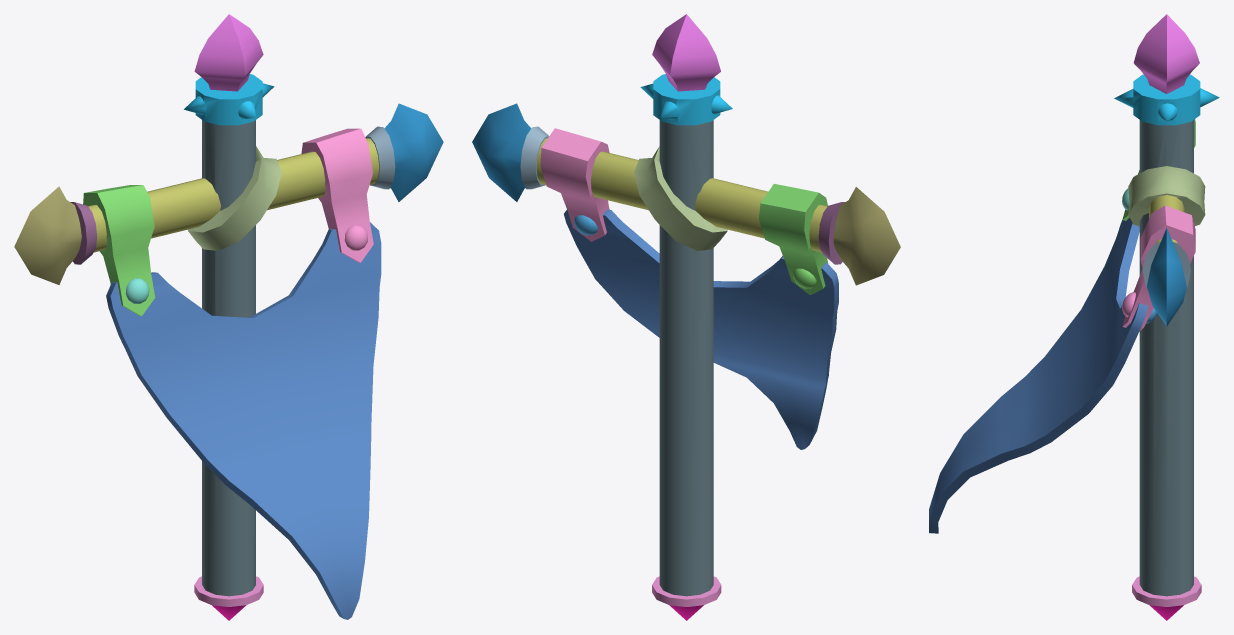
The picture shows the model from 3 angles, left to right: view 1: azimuth 30°, elevation 25°; view 2: azimuth 150°, elevation 25°; view 3: azimuth 270°, elevation 25°; orthographic projection.
Parts seen in each view (by area): view 1: split_parent_4, split_parent_8, pCylinder19_lambert1_0, split_parent_2, split_parent_6, pCone12_lambert1_0, pCylinder16_lambert1_0, pCone15_lambert1_0, pCone16_lambert1_0, pCylinder13_lambert1_0, pCylinder14_lambert1_0, pCylinder15_lambert1_0 (+1 smaller); view 2: split_parent_8, split_parent_4, pCylinder19_lambert1_0, split_parent_6, split_parent_2, pCone12_lambert1_0, pCylinder16_lambert1_0, pCone15_lambert1_0, pCone16_lambert1_0, pCylinder13_lambert1_0, pCylinder14_lambert1_0, pCylinder15_lambert1_0 (+1 smaller); view 3: split_parent_8, split_parent_4, pCone16_lambert1_0, pCylinder13_lambert1_0, pCylinder16_lambert1_0, split_parent_2, pCone15_lambert1_0, pCylinder15_lambert1_0, pCylinder14_lambert1_0, pCylinder19_lambert1_0.
Boxes of the visible parts, x1,y1,x2,y2 form: split_parent_4: (106, 222, 381, 619); split_parent_8: (202, 120, 255, 596); pCylinder19_lambert1_0: (88, 138, 379, 252); split_parent_2: (301, 128, 373, 262); split_parent_6: (83, 185, 155, 316); pCone12_lambert1_0: (14, 186, 81, 284); pCylinder16_lambert1_0: (188, 146, 281, 250); pCone15_lambert1_0: (384, 103, 443, 201); pCone16_lambert1_0: (194, 14, 263, 91); pCylinder13_lambert1_0: (184, 74, 274, 125); pCylinder14_lambert1_0: (365, 126, 395, 189); pCylinder15_lambert1_0: (194, 576, 263, 606); split_parent_8: (659, 120, 713, 596); split_parent_4: (564, 209, 838, 449); pCylinder19_lambert1_0: (536, 138, 827, 252); split_parent_6: (759, 183, 828, 295); split_parent_2: (540, 128, 609, 241); pCone12_lambert1_0: (833, 187, 900, 285); pCylinder16_lambert1_0: (634, 146, 727, 250); pCone15_lambert1_0: (472, 103, 531, 201); pCone16_lambert1_0: (652, 14, 720, 91); pCylinder13_lambert1_0: (640, 74, 732, 125); pCylinder14_lambert1_0: (520, 126, 549, 189); pCylinder15_lambert1_0: (652, 576, 721, 606); split_parent_8: (1139, 120, 1193, 596); split_parent_4: (929, 217, 1148, 533); pCone16_lambert1_0: (1133, 14, 1199, 93); pCylinder13_lambert1_0: (1114, 74, 1219, 125); pCylinder16_lambert1_0: (1128, 166, 1205, 226); split_parent_2: (1122, 205, 1195, 331); pCone15_lambert1_0: (1146, 228, 1186, 326); pCylinder15_lambert1_0: (1132, 576, 1201, 606); pCylinder14_lambert1_0: (1142, 242, 1190, 287); pCylinder19_lambert1_0: (1149, 195, 1184, 243).
Size of the model in its own units: 0.74 by 1 by 0.4343.
